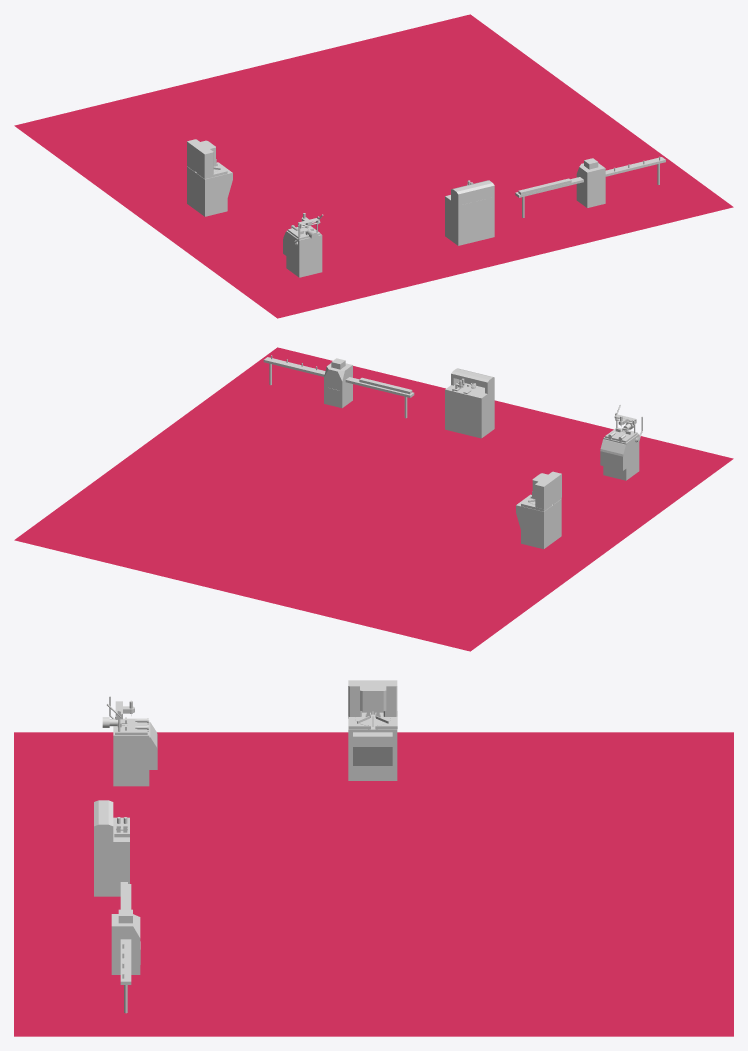
File: maquinas.fbx
The picture shows the model from 3 angles, top to bottom: view 1: azimuth 30°, elevation 25°; view 2: azimuth 150°, elevation 25°; view 3: azimuth 270°, elevation 25°; orthographic projection. The views are drawn at different scales.
Visible parts, largest first — view 1: Plano, Cubo.013, Cubo.009, Cubo.001, Cilindro.023; view 2: Plano, Cubo.013, Cubo.009, Cubo.001, Cilindro.023; view 3: Plano, Cubo.009, Cilindro.023, Cubo.013, Cubo.001.
Boxes of the visible parts, bbox=[...] form: Plano: bbox=[14, 14, 733, 318]; Cubo.013: bbox=[445, 180, 494, 245]; Cubo.009: bbox=[187, 139, 232, 216]; Cubo.001: bbox=[515, 156, 665, 217]; Cilindro.023: bbox=[283, 213, 323, 277]; Plano: bbox=[14, 347, 733, 651]; Cubo.013: bbox=[445, 368, 494, 438]; Cubo.009: bbox=[516, 471, 561, 549]; Cubo.001: bbox=[263, 355, 414, 418]; Cilindro.023: bbox=[600, 405, 642, 480]; Plano: bbox=[14, 732, 733, 1036]; Cubo.009: bbox=[348, 680, 397, 780]; Cilindro.023: bbox=[102, 696, 157, 786]; Cubo.013: bbox=[94, 800, 129, 896]; Cubo.001: bbox=[111, 882, 140, 1013].
Size of the model in its own units: 4000 by 525 by 4000.
